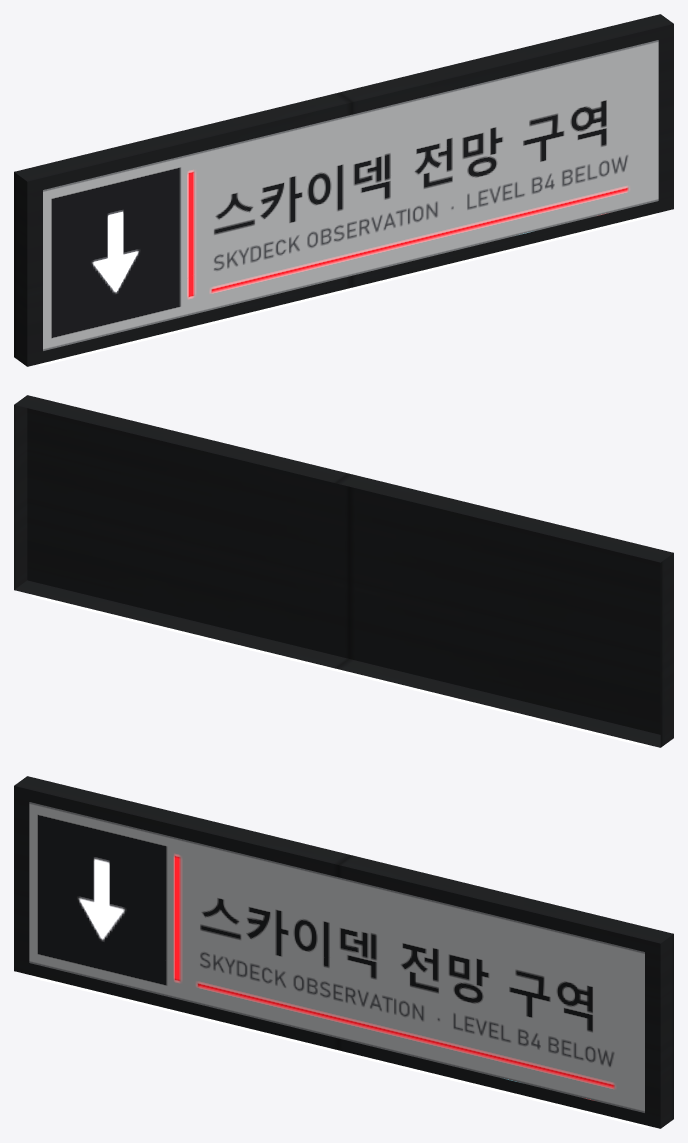
File: SM_LFD_SignWayfinding_Skydeck.fbx
The picture shows the model from 3 angles, top to bottom: view 1: azimuth 30°, elevation 25°; view 2: azimuth 150°, elevation 25°; view 3: azimuth 330°, elevation 25°; orthographic projection.
Parts seen in each view (by area): view 1: SM_LFD_SignWayfinding_Skydeck; view 2: SM_LFD_SignWayfinding_Skydeck; view 3: SM_LFD_SignWayfinding_Skydeck.
Part boxes in pixels (box(x1,y1,x2,y2)): SM_LFD_SignWayfinding_Skydeck: box(14, 14, 673, 366); SM_LFD_SignWayfinding_Skydeck: box(14, 395, 673, 747); SM_LFD_SignWayfinding_Skydeck: box(14, 776, 673, 1128).
Bounding box in the file's own units: 1.68 × 0.472 × 0.061.
